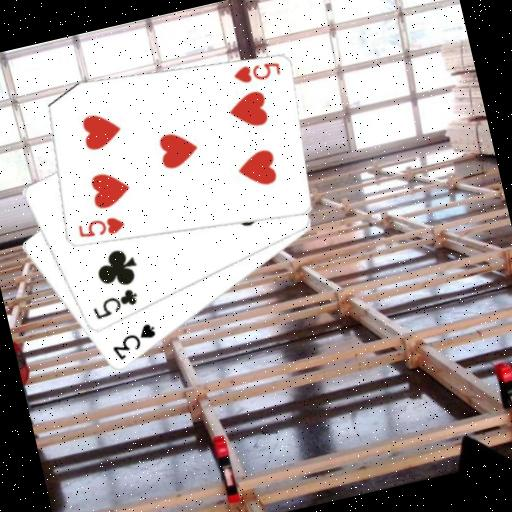3S: (105, 319, 162, 364)
5C: (87, 285, 142, 323)
5H: (228, 56, 283, 89), (73, 211, 127, 244)
